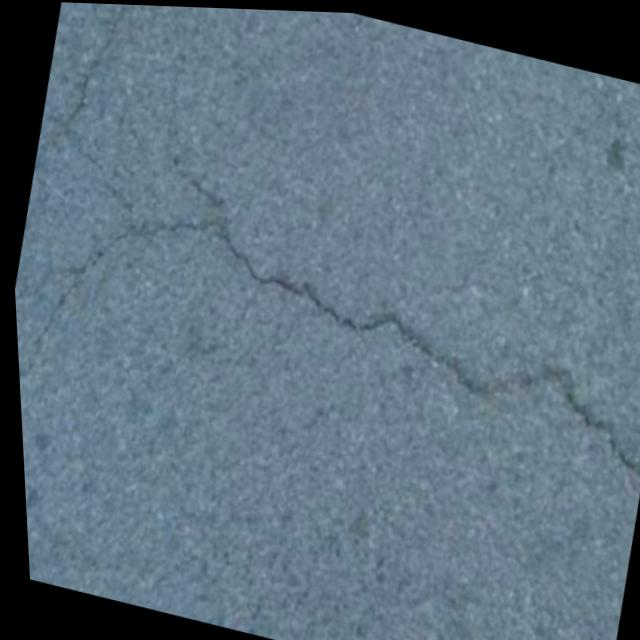Crack: (68, 146, 640, 489)
